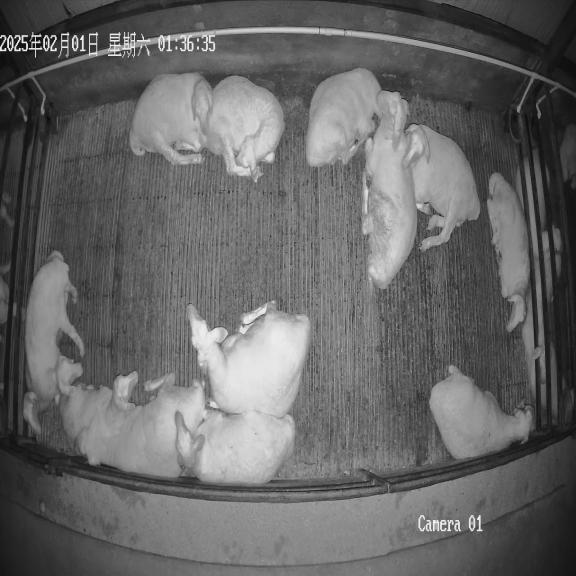lying: (187, 301, 311, 418), (78, 374, 205, 478), (361, 90, 417, 289), (429, 365, 533, 460), (403, 124, 480, 251), (175, 411, 295, 484), (203, 75, 284, 182), (128, 73, 213, 166), (306, 68, 380, 167), (486, 172, 530, 332), (59, 371, 138, 451)
stand: (23, 251, 85, 434)
